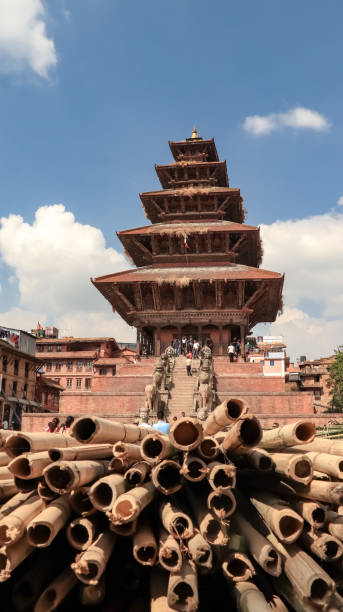nyathapola: (74, 90, 299, 421)
